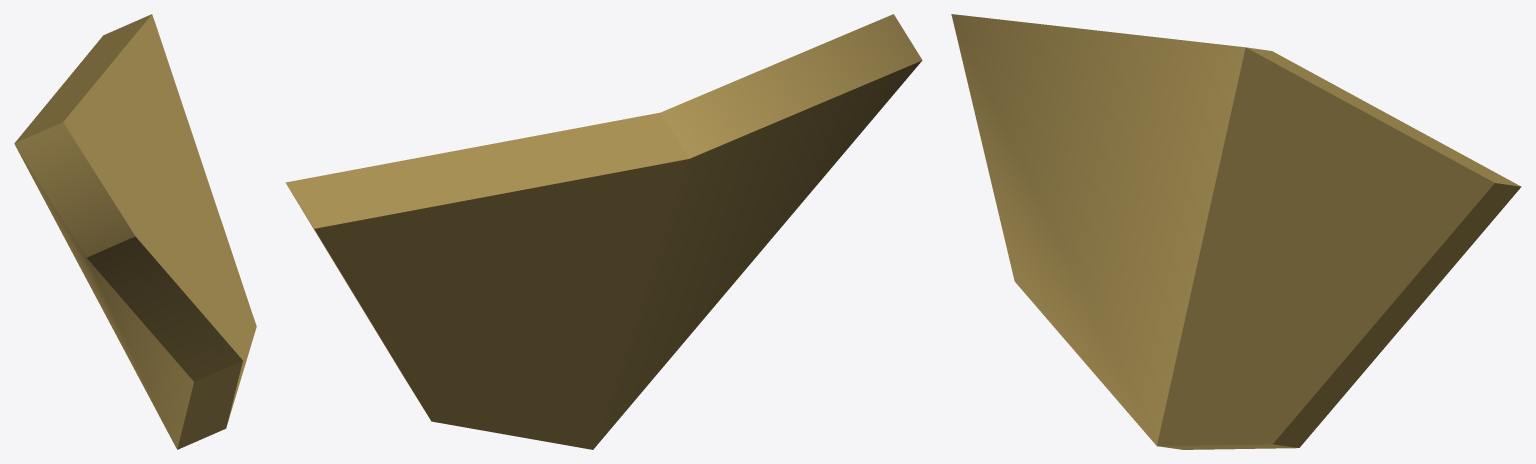
Rendered from JarPiece2.fbx.
The picture shows the model from 3 angles, left to right: view 1: azimuth 30°, elevation 25°; view 2: azimuth 150°, elevation 25°; view 3: azimuth 270°, elevation 25°; orthographic projection. The views are drawn at different scales.
Parts seen in each view (by area): view 1: JarPiece_2; view 2: JarPiece_2; view 3: JarPiece_2.
Part boxes in pixels (<box>): JarPiece_2: <box>14,14,256,449</box>; JarPiece_2: <box>285,14,922,449</box>; JarPiece_2: <box>951,14,1521,449</box>.
Bounding box in the file's own units: 0.1718 × 0.1761 × 0.2549.
